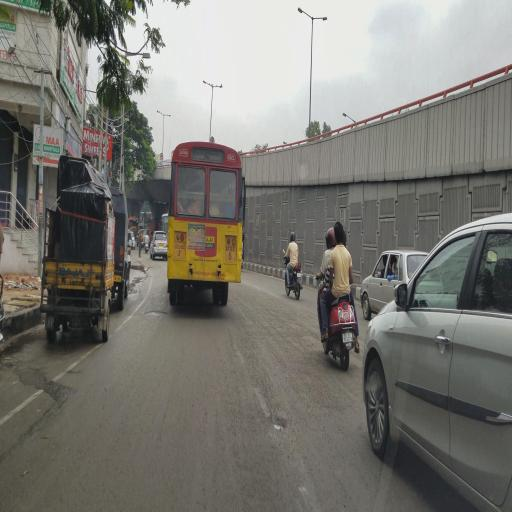street_light_0: (338, 97, 359, 127), (292, 4, 312, 24), (313, 7, 332, 26), (212, 76, 228, 96), (198, 76, 212, 96), (155, 103, 166, 121), (163, 104, 173, 122)
